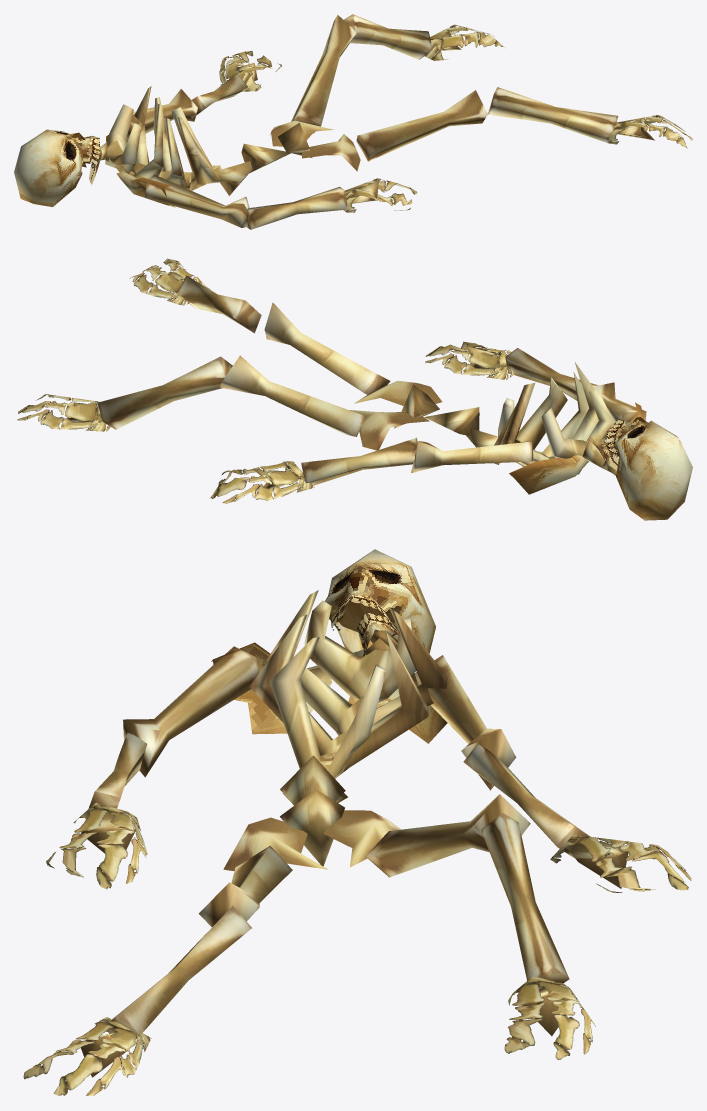
Rendered from lightskeletonlaying01.obj.
The picture shows the model from 3 angles, top to bottom: view 1: azimuth 30°, elevation 25°; view 2: azimuth 150°, elevation 25°; view 3: azimuth 270°, elevation 25°; orthographic projection. The views are drawn at different scales.
Parts seen in each view (by area): view 1: Geoset0, Geoset2, Geoset1; view 2: Geoset0, Geoset2, Geoset1; view 3: Geoset0, Geoset1, Geoset2.
Part boxes in pixels (x1,y1,x2,y2): Geoset0: (82, 14, 654, 229); Geoset2: (14, 129, 175, 207); Geoset1: (219, 24, 692, 212); Geoset0: (61, 271, 646, 496); Geoset2: (509, 402, 692, 520); Geoset1: (17, 258, 514, 503); Geoset0: (81, 590, 628, 1077); Geoset1: (23, 802, 691, 1095); Geoset2: (211, 549, 447, 743).
Size of the model in its own units: 2.08 by 0.3725 by 1.3.
3 materials, 3 textured.
